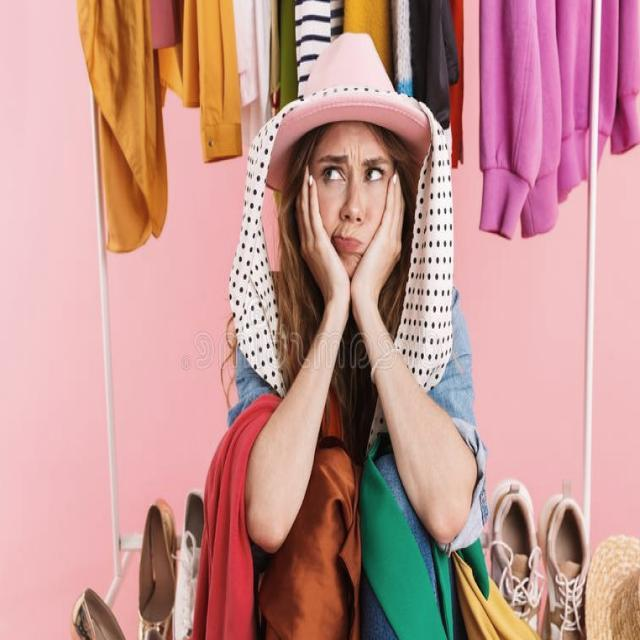clothes: (236, 33, 579, 126)
